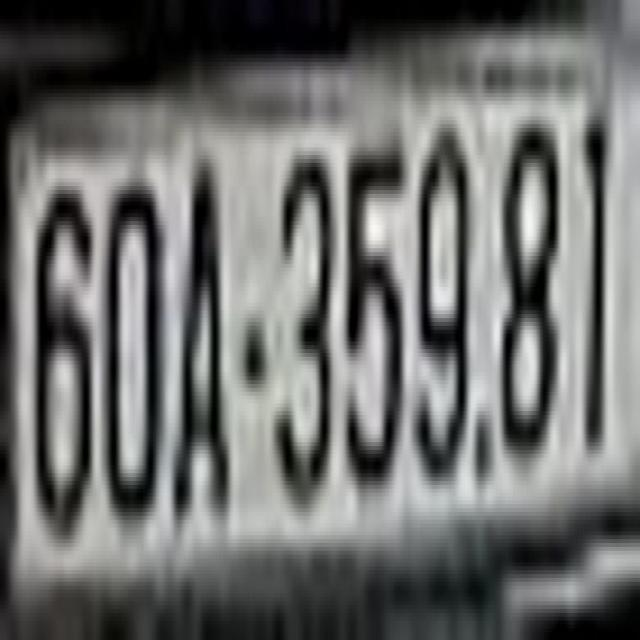0: (102, 140, 160, 524)
1: (576, 105, 612, 454)
3: (278, 108, 331, 516)
5: (347, 120, 405, 493)
6: (32, 163, 95, 551)
8: (498, 108, 558, 466)
9: (416, 116, 468, 481)
A: (175, 148, 229, 528)
